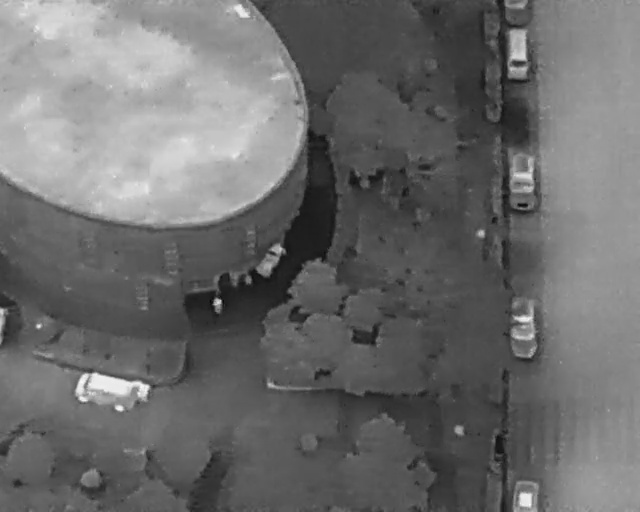Car: (72, 368, 140, 416), (511, 294, 539, 359), (511, 151, 538, 212), (505, 27, 530, 80), (514, 480, 541, 512)
